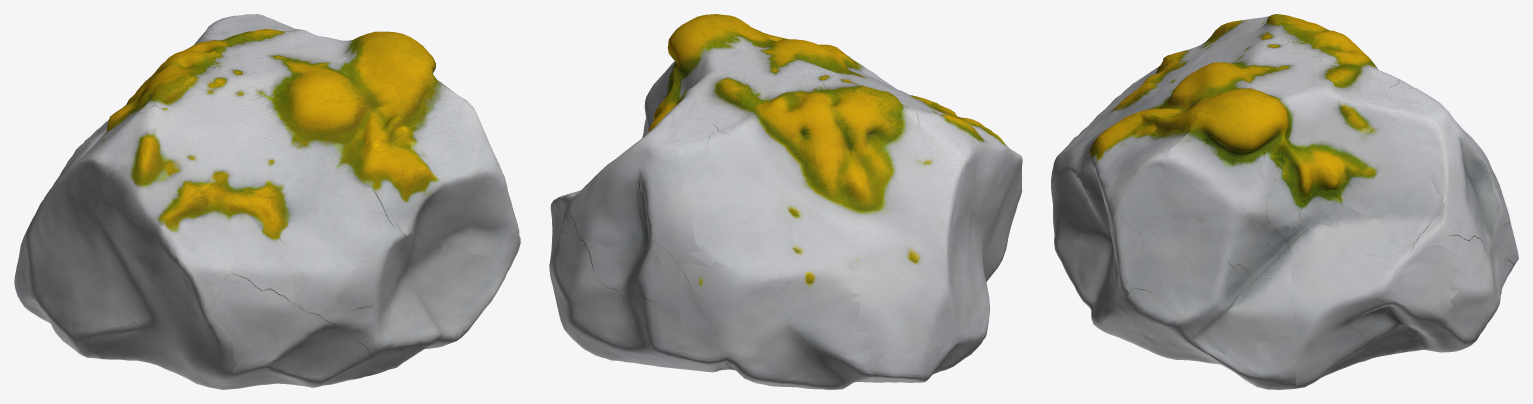
Rendered from ground_boulder_a.glb.
3 views of the same model, side by side, from view 1: azimuth 30°, elevation 25°; view 2: azimuth 150°, elevation 25°; view 3: azimuth 270°, elevation 25° (orthographic). The views are drawn at different scales.
Size of the model in its own units: 1.89 by 1.14 by 1.91.
1 material, 1 textured.
